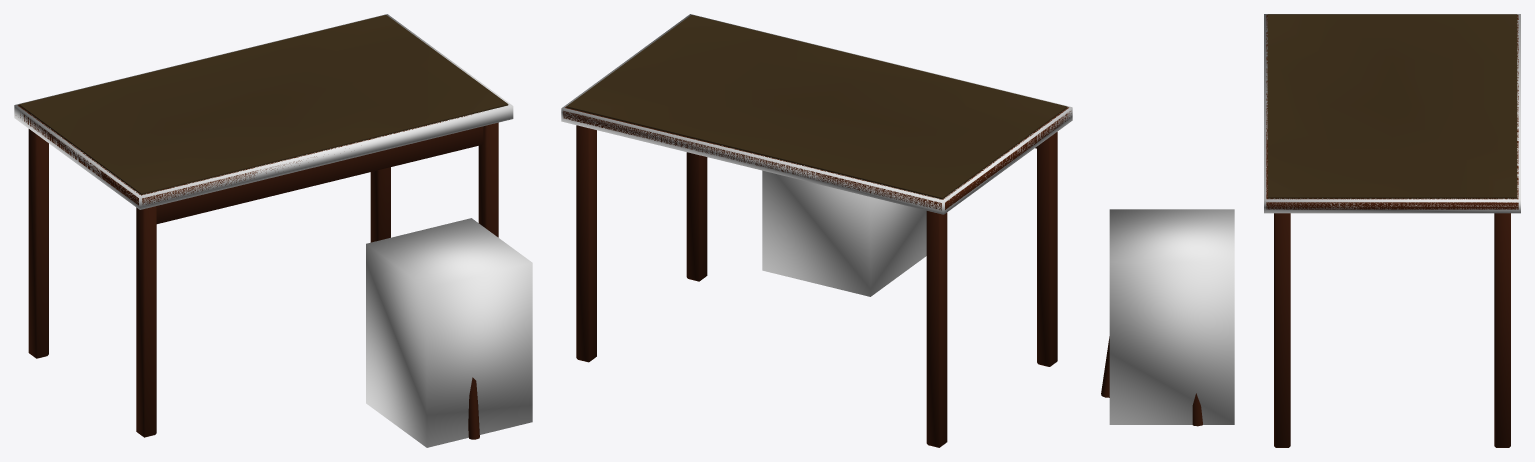
File: mesa_planificacion.glb
3 renders of one model, left to right at view 1: azimuth 30°, elevation 25°; view 2: azimuth 150°, elevation 25°; view 3: azimuth 270°, elevation 25°, orthographic. The views are drawn at different scales.
Parts seen in each view (by area): view 1: mesa, taburete-colcaja, tablero-colcaja; view 2: mesa, taburete-colcaja, tablero-colcaja; view 3: mesa, taburete-colcaja, tablero-colcaja.
Part boxes in pixels (x1,y1,x2,y2): mesa: [17, 15, 508, 439]; taburete-colcaja: [366, 218, 532, 447]; tablero-colcaja: [14, 14, 513, 209]; mesa: [563, 15, 1071, 447]; taburete-colcaja: [762, 170, 926, 296]; tablero-colcaja: [561, 14, 1072, 214]; mesa: [1101, 14, 1518, 447]; taburete-colcaja: [1109, 209, 1234, 424]; tablero-colcaja: [1264, 14, 1520, 213].
Bounding box in the file's own units: 1.2 × 0.7661 × 1.14.
